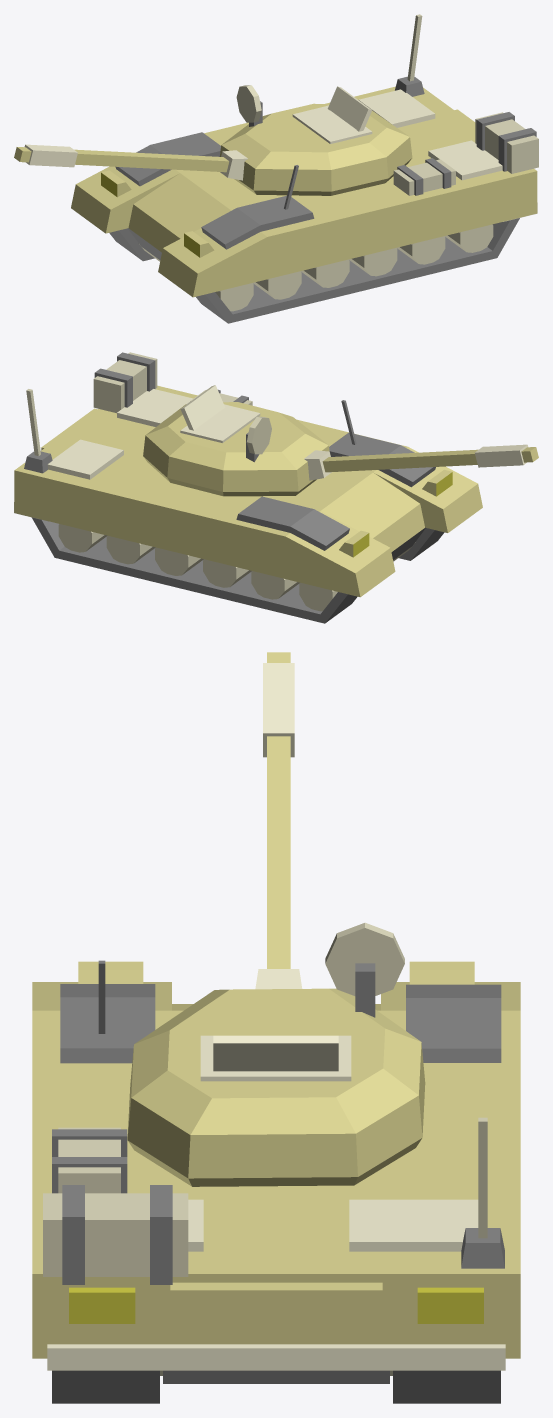
Rendered from tank.glb.
The picture shows the model from 3 angles, top to bottom: view 1: azimuth 30°, elevation 25°; view 2: azimuth 150°, elevation 25°; view 3: azimuth 270°, elevation 25°; orthographic projection. The views are drawn at different scales.
Visible parts, largest first — view 1: Cube.002, Cube.001; view 2: Cube.002, Cube.001; view 3: Cube.002, Cube.001.
Boxes of the visible parts, bbox=[...] form: Cube.002: bbox=[71, 14, 538, 323]; Cube.001: bbox=[14, 144, 247, 180]; Cube.002: bbox=[14, 352, 482, 623]; Cube.001: bbox=[304, 444, 538, 480]; Cube.002: bbox=[32, 922, 520, 1403]; Cube.001: bbox=[255, 652, 302, 989].
Bounding box in the file's own units: 11.17 × 3.9 × 5.06.
